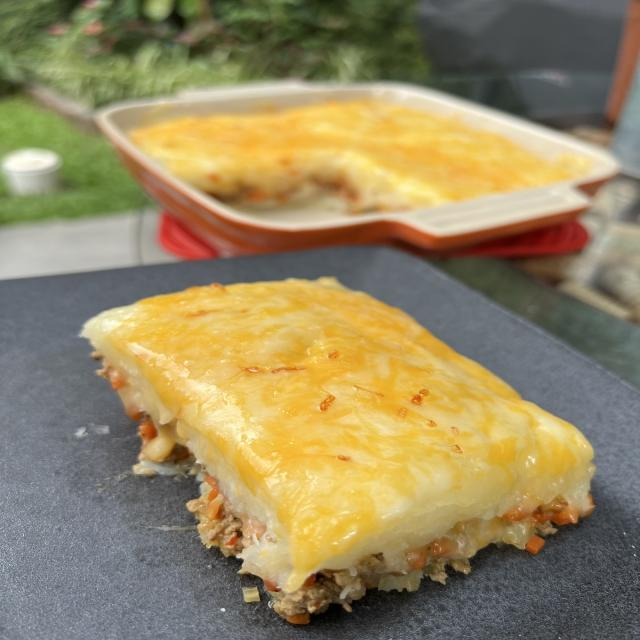papa: (57, 276, 603, 602)
